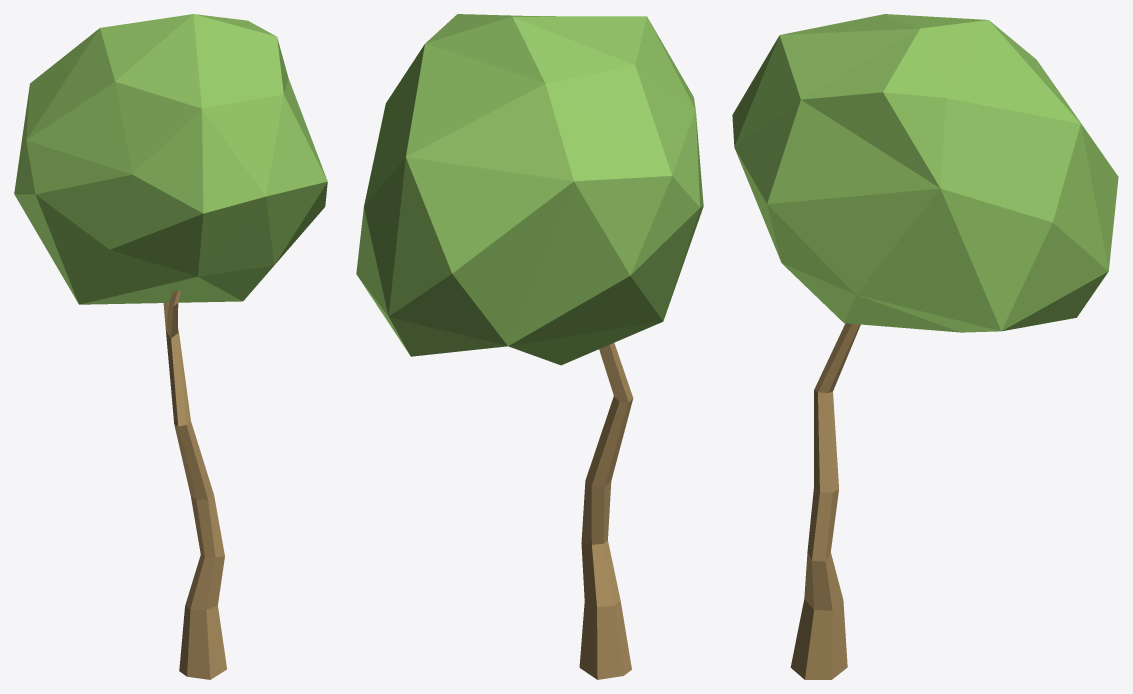
Rendered from Oak_Tree_m_05_LOD.fbx.
3 renders of one model, left to right at view 1: azimuth 30°, elevation 25°; view 2: azimuth 150°, elevation 25°; view 3: azimuth 270°, elevation 25°, orthographic. The views are drawn at different scales.
Visible parts, largest first — view 1: Oak_Tree_m_05_LOD0; view 2: Oak_Tree_m_05_LOD0; view 3: Oak_Tree_m_05_LOD0.
Part boxes in pixels (<box>): Oak_Tree_m_05_LOD0: <box>14,14,327,679</box>; Oak_Tree_m_05_LOD0: <box>356,14,703,679</box>; Oak_Tree_m_05_LOD0: <box>732,14,1118,679</box>.
Size of what is drawn, in the model's own units: 354 by 771 by 408.
